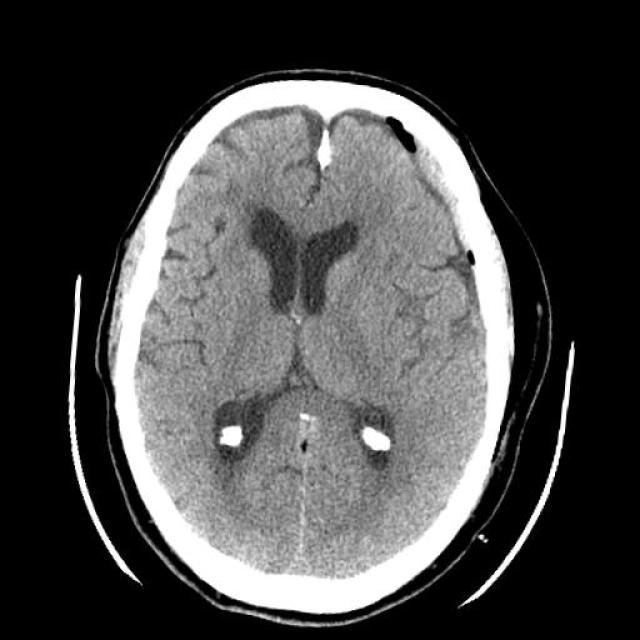Subdural: (366, 96, 536, 342)
